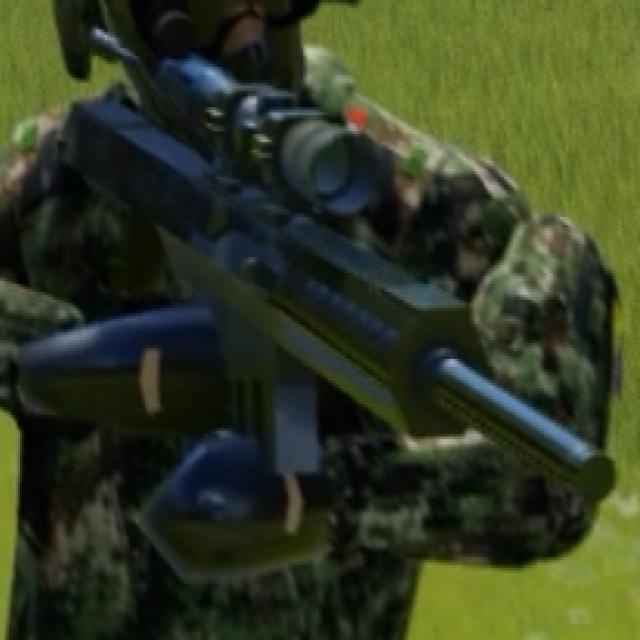RifleTel: (49, 42, 623, 507)
